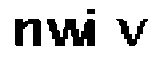i: (86, 4, 107, 51)
n: (11, 14, 43, 50)
v: (115, 15, 152, 52)
w: (47, 18, 87, 51)
